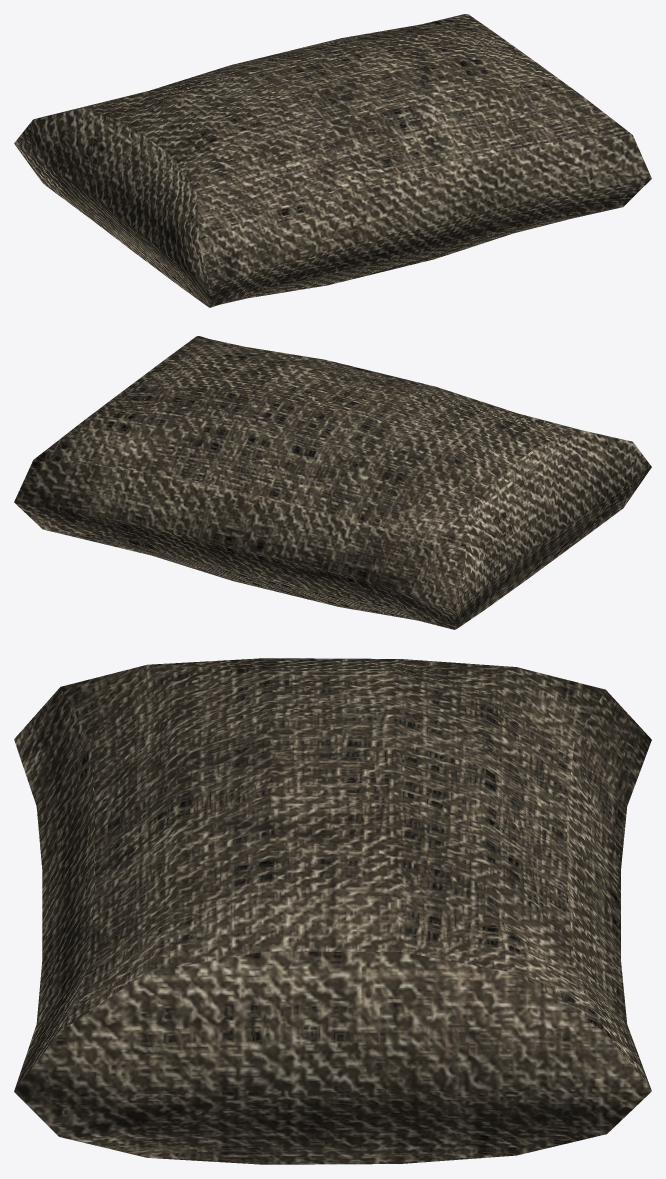
File: Sack_1.FBX
3 renders of one model, top to bottom at view 1: azimuth 30°, elevation 25°; view 2: azimuth 150°, elevation 25°; view 3: azimuth 270°, elevation 25°, orthographic. The views are drawn at different scales.
Visible parts, largest first — view 1: mesh; view 2: mesh; view 3: mesh.
Part boxes in pixels (x1,y1,x2,y2): mesh: (14,14,651,307); mesh: (14,336,651,629); mesh: (14,658,651,1164).
Size of the model in its own units: 80.39 by 61.5 by 32.
